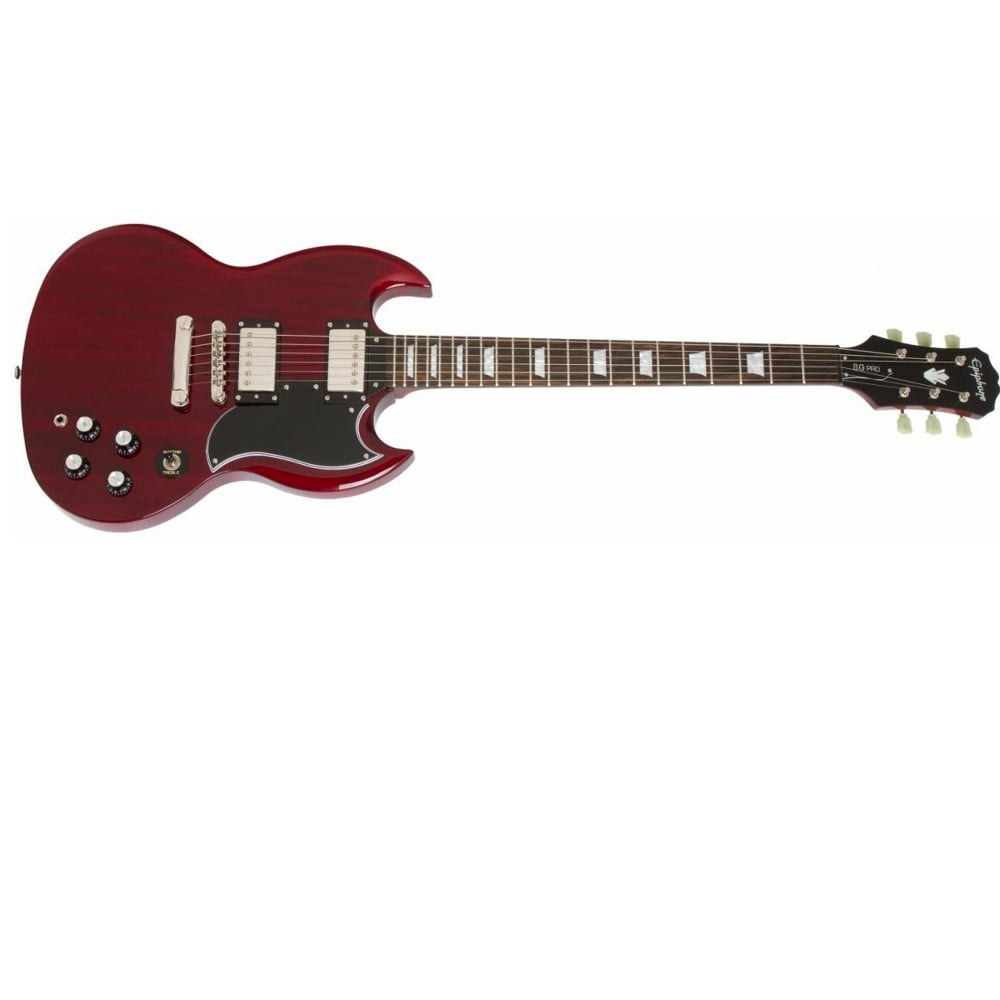ElectricGuitar: (31, 221, 1000, 543)
